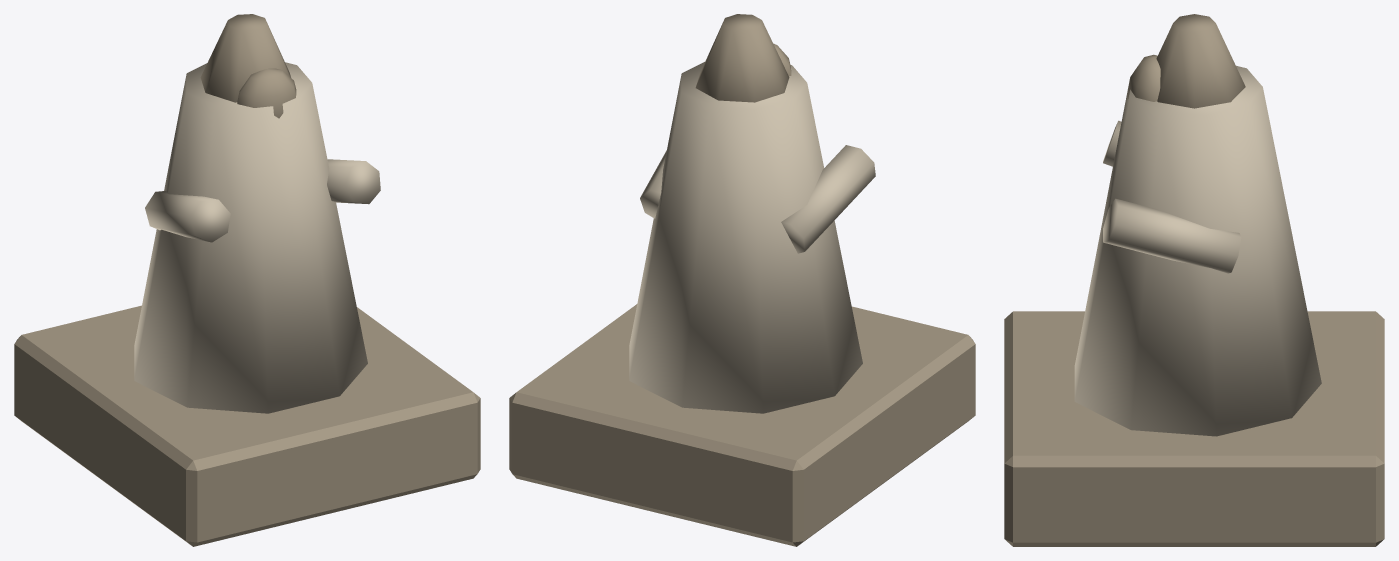
File: gothic_statue.gltf
3 views of the same model, side by side, from view 1: azimuth 30°, elevation 25°; view 2: azimuth 150°, elevation 25°; view 3: azimuth 270°, elevation 25° (orthographic). The views are drawn at different scales.
Parts seen in each view (by area): view 1: plinth, robe, hood, arm-1, arm1, face; view 2: plinth, robe, hood, arm-1, arm1; view 3: plinth, robe, hood, arm1, face.
Part boxes in pixels (x1,y1,x2,y2): plinth: [14, 305, 480, 546]; robe: [134, 62, 367, 413]; hood: [200, 14, 290, 102]; arm-1: [145, 191, 230, 242]; arm1: [327, 159, 380, 204]; face: [237, 68, 296, 118]; plinth: [509, 304, 975, 546]; robe: [629, 62, 862, 413]; hood: [695, 14, 789, 102]; arm-1: [781, 145, 875, 253]; arm1: [640, 150, 666, 218]; plinth: [1004, 311, 1384, 546]; robe: [1074, 65, 1321, 436]; hood: [1156, 14, 1245, 108]; arm1: [1103, 198, 1241, 273]; face: [1127, 54, 1160, 101].
Bounding box in the file's own units: 1.24 × 1.72 × 1.31.
